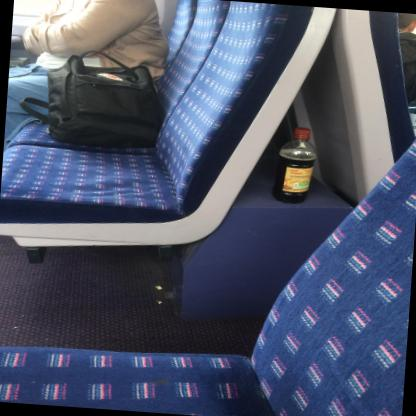Plastic: (272, 127, 317, 204), (408, 99, 416, 136), (294, 127, 311, 137)
